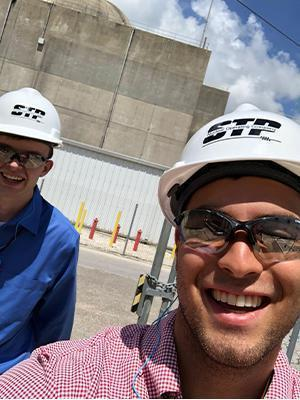helmet: (156, 104, 299, 215), (0, 83, 62, 146)
